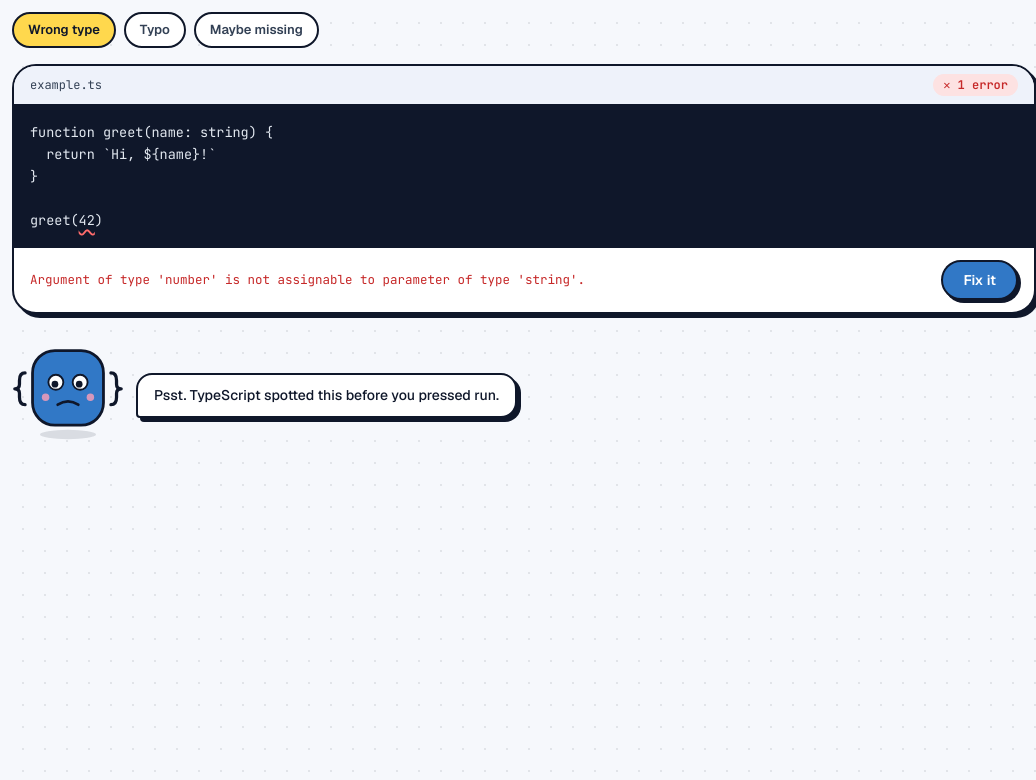
Test case: TypeToy › shows the error, then fixes it on request
Check: the text "✕ 1 error" is shown, box [933,74,1018,96]
Check: the text with test id "squiggle" reads "42", box [79,211,95,229]
Click the button "Fix it".
click(980, 280)  # box [941,260,1018,300]
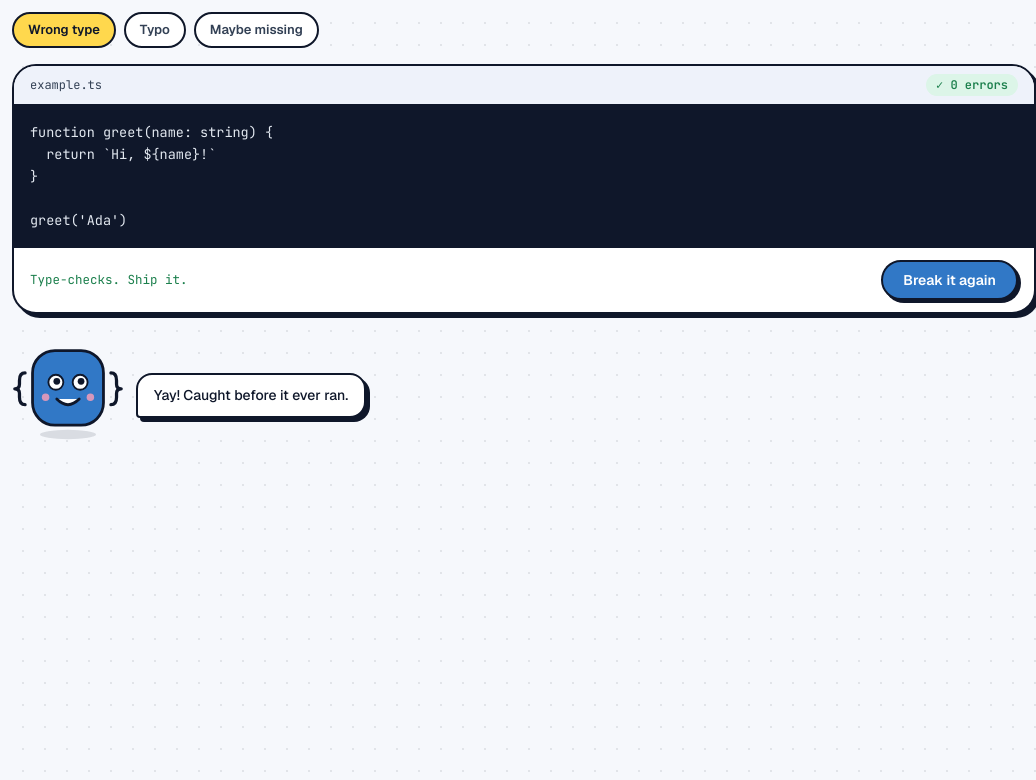
Check: the text "✓ 0 errors" is shown, box [926,74,1018,96]
Check: the text with test id "squiggle" is gone
Check: the picture named "happy" is shown, box [12,330,124,442]
